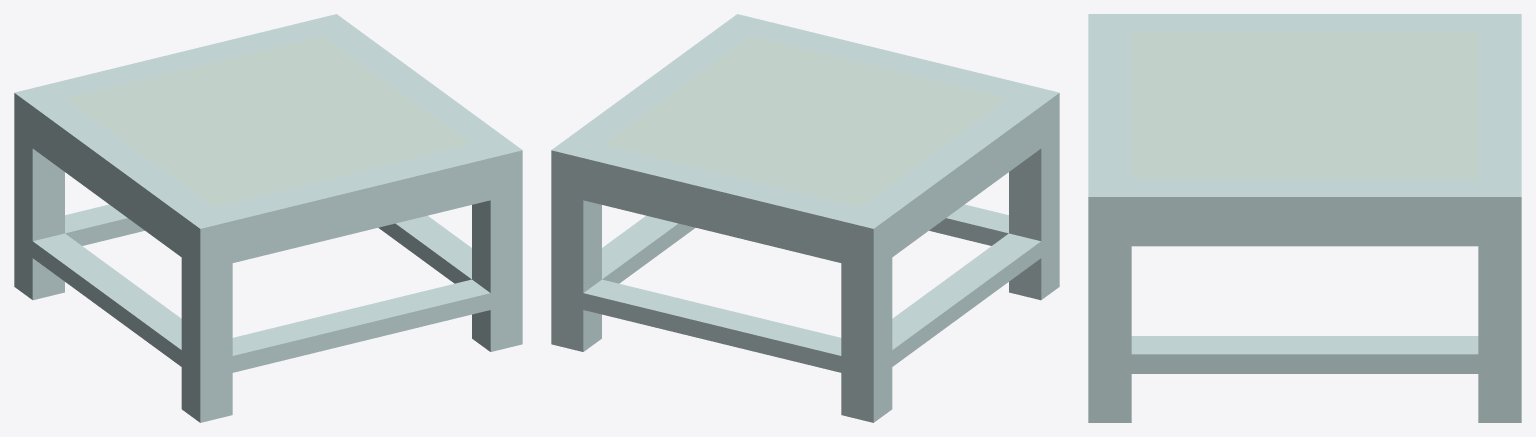
File: tableCoffeeGlassSquare.glb
The picture shows the model from 3 angles, left to right: view 1: azimuth 30°, elevation 25°; view 2: azimuth 150°, elevation 25°; view 3: azimuth 270°, elevation 25°; orthographic projection. The views are drawn at different scales.
Parts seen in each view (by area): view 1: tableCoffeeGlassSquare; view 2: tableCoffeeGlassSquare; view 3: tableCoffeeGlassSquare.
Part boxes in pixels (left/top/right/bottom): tableCoffeeGlassSquare: left=14, top=14, right=522, bottom=422; tableCoffeeGlassSquare: left=551, top=14, right=1059, bottom=422; tableCoffeeGlassSquare: left=1088, top=14, right=1521, bottom=422.
Bounding box in the file's own units: 4 × 2.3 × 4.
